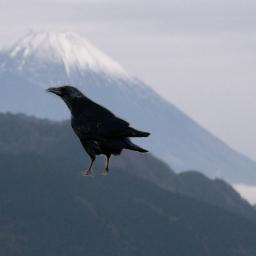Crow: (45, 84, 151, 180)
